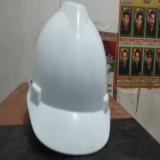Helmet: (27, 1, 110, 155)
